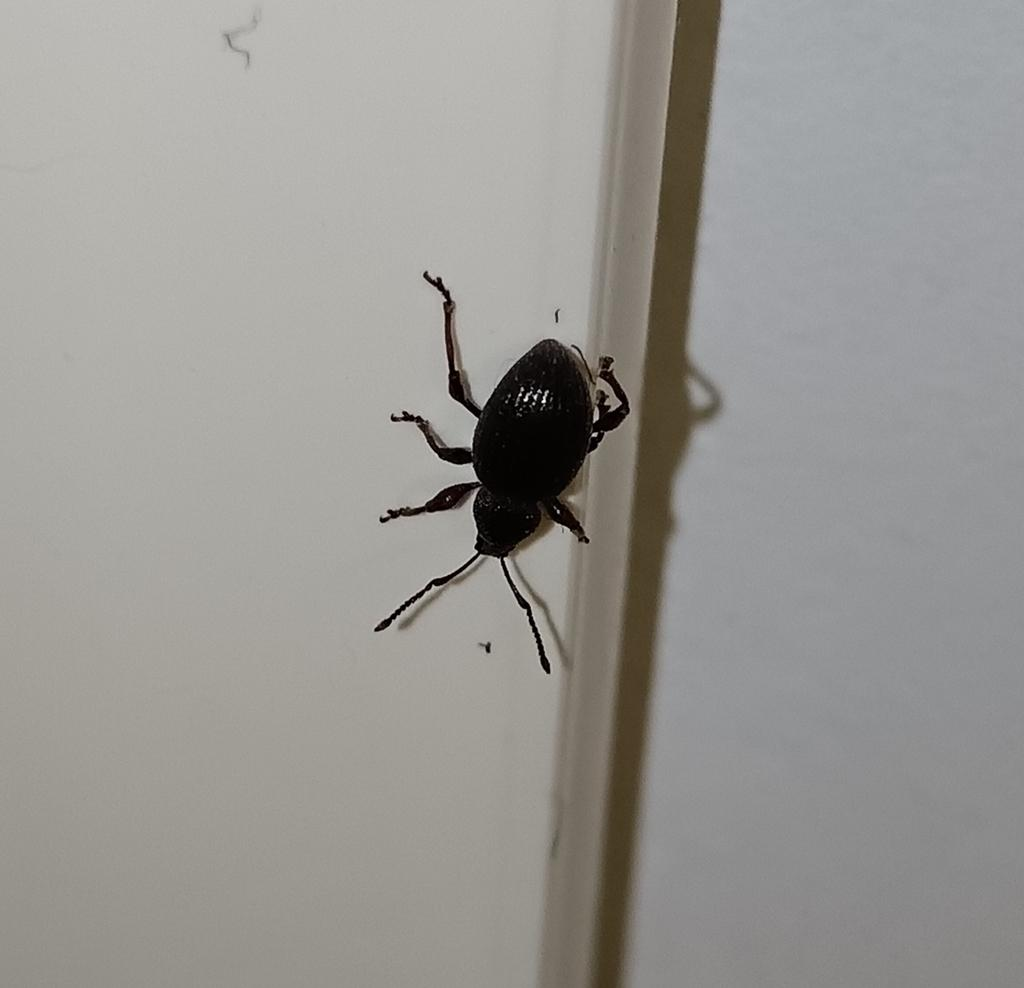weevils: (341, 244, 673, 720)
